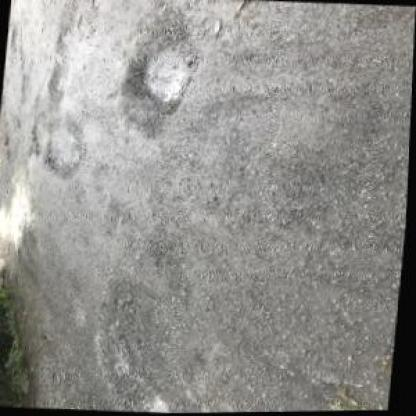pothole: (118, 18, 202, 133), (39, 110, 87, 181), (50, 0, 101, 60), (44, 61, 70, 107)
